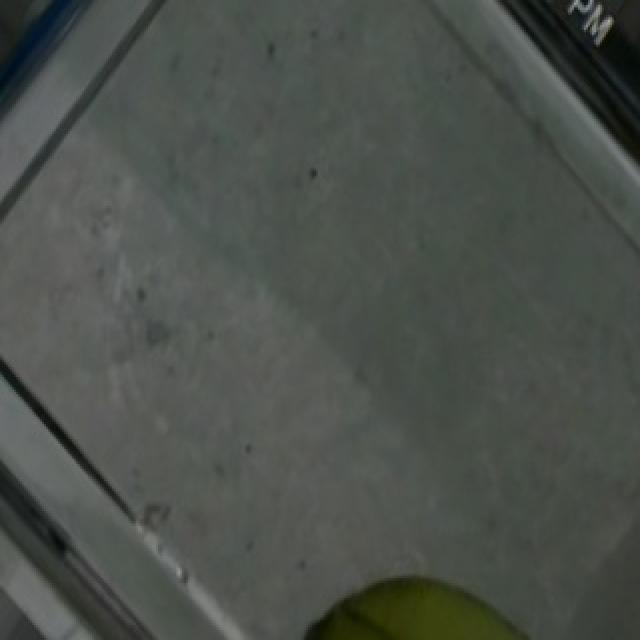fruit: (272, 531, 582, 640)
